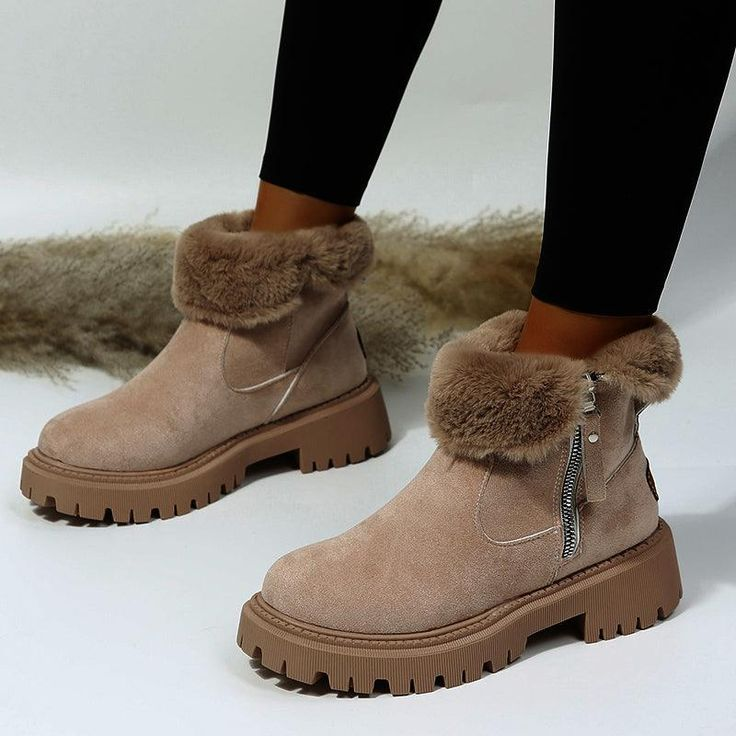gamuza: (37, 286, 660, 636)
